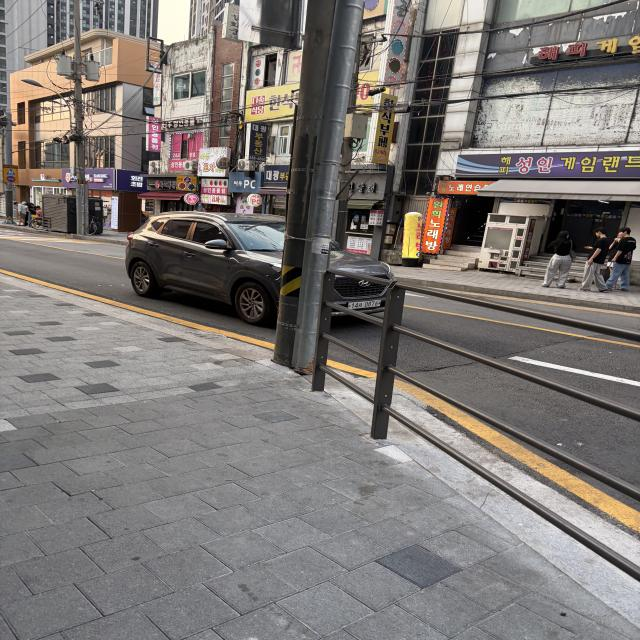car: (117, 196, 436, 352)
